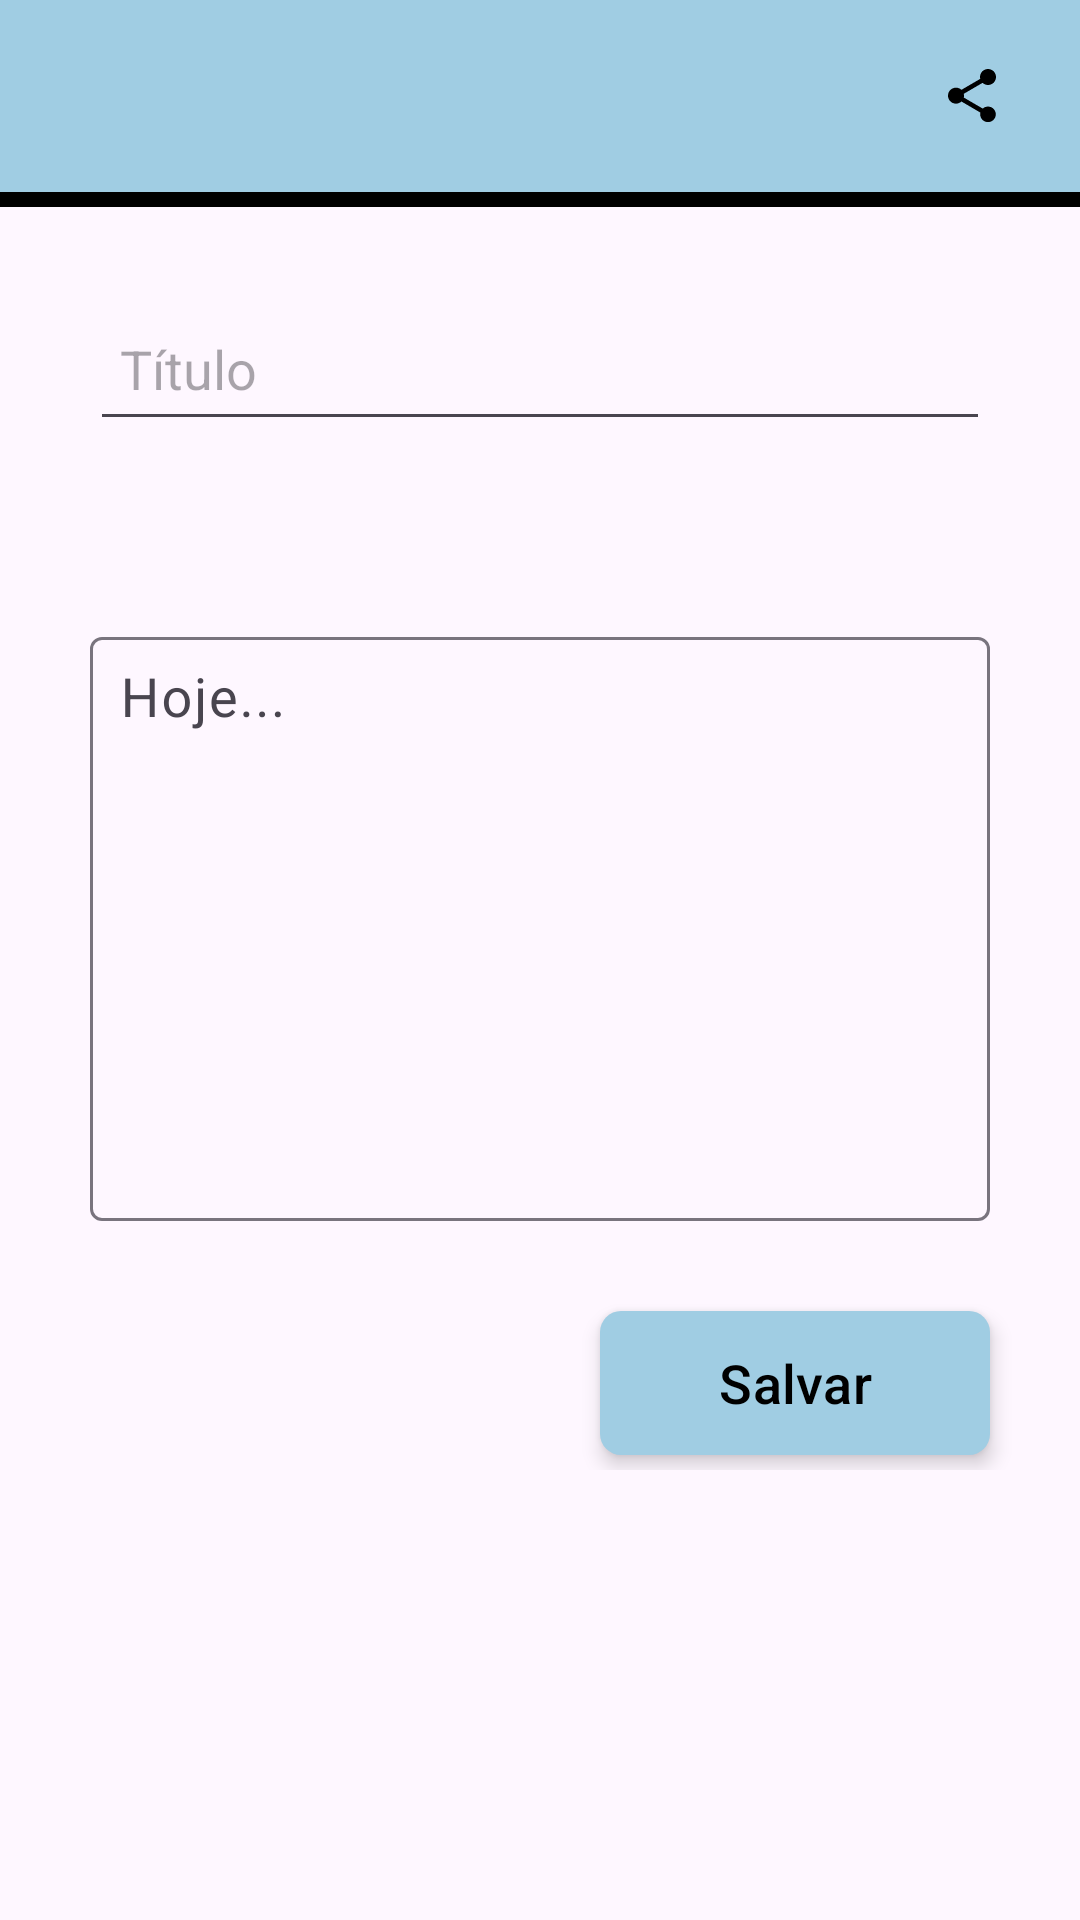

Where to tap for icons on this 1080 × 1920 app screen, as (x=x, y=y):
Compartilhar com o psicólogo: (x=972, y=95)
